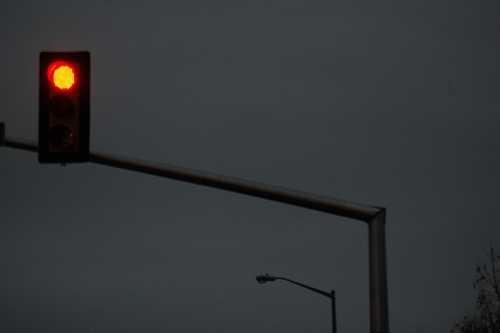red: (39, 49, 89, 162), (44, 53, 87, 99)
